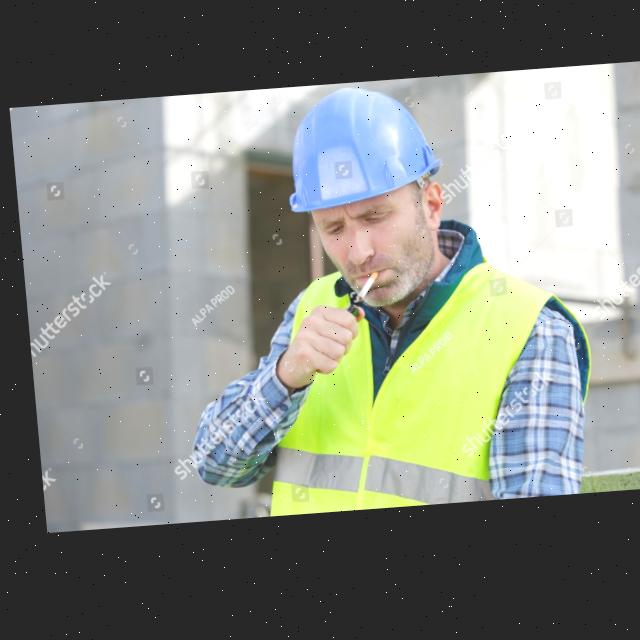cigarette: (349, 276, 375, 306)
